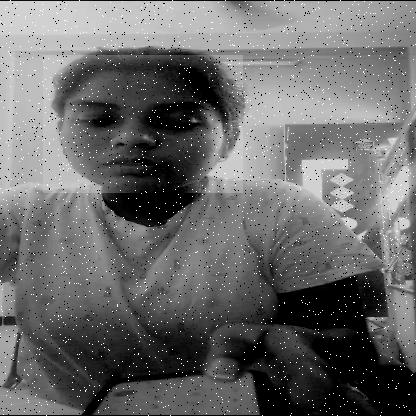Normal: (42, 55, 242, 193)
